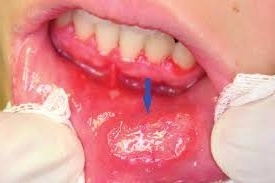Ulcer: (109, 117, 196, 167)
